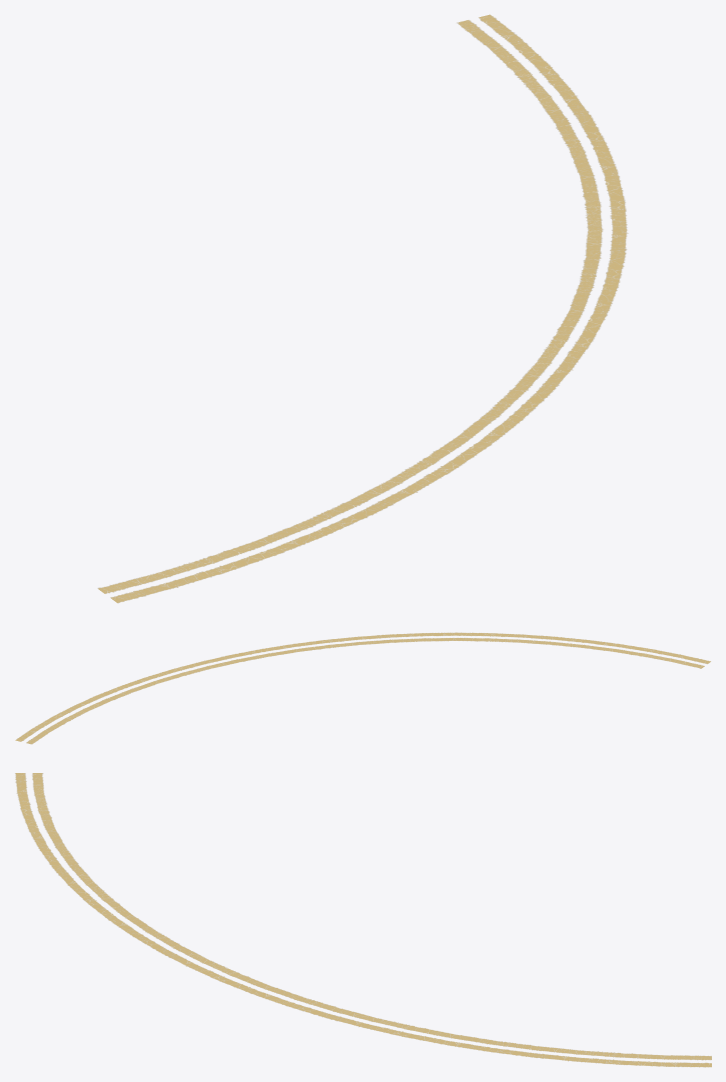
File: q-downtown-decal-curve-4laneshort-doubleyellow.glb
The picture shows the model from 3 angles, top to bottom: view 1: azimuth 30°, elevation 25°; view 2: azimuth 150°, elevation 25°; view 3: azimuth 270°, elevation 25°; orthographic projection. The views are drawn at different scales.
Visible parts, largest first — view 1: Decal_Curve_4LaneShort_DoubleYellow; view 2: Decal_Curve_4LaneShort_DoubleYellow; view 3: Decal_Curve_4LaneShort_DoubleYellow.
Boxes of the visible parts, x1=… form: Decal_Curve_4LaneShort_DoubleYellow: x1=98, y1=14, x2=627, y2=602; Decal_Curve_4LaneShort_DoubleYellow: x1=15, y1=632, x2=710, y2=743; Decal_Curve_4LaneShort_DoubleYellow: x1=15, y1=773, x2=711, y2=1067.
Bounding box in the file's own units: 9.2 × 0 × 9.2.
1 material, 1 textured.
